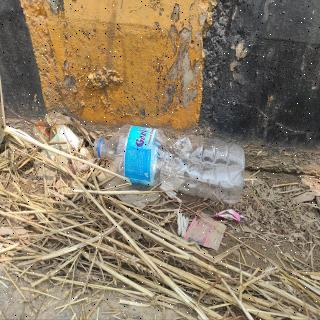Plastic-bottle: (93, 123, 247, 208)
